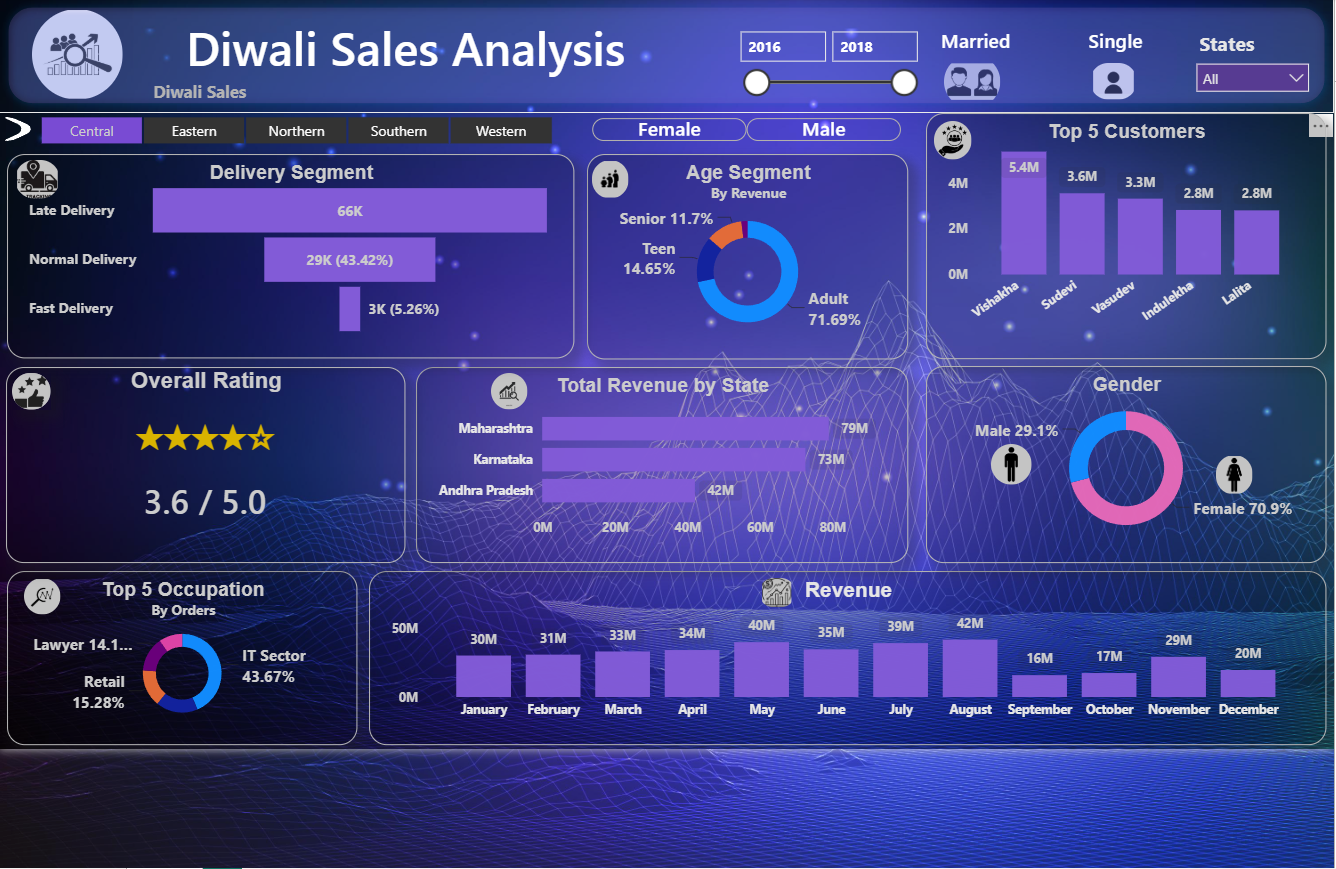

The dashboard page shown, as its layout file describes it:
{"tool":"powerbi","page":{"name":"Page 1","canvas":[1280,720],"ordinal":0},"visuals":[{"type":"image","box":[568.6,155.3,35.5,37.4],"z":0},{"type":"image","box":[471.7,359.6,35.5,34.5],"z":1000},{"type":"shape","box":[2.9,114.1,34.5,23],"z":2000},{"type":"image","box":[1166.9,438.2,35.5,38.4],"z":3000},{"type":"image","box":[951.1,427.6,39.3,39.3],"z":4000},{"type":"image","box":[1046.1,62.3,45.1,35.5],"z":5000},{"type":"image","box":[906.1,54.7,53.7,50.8],"z":6000},{"type":"image","box":[728.7,556.1,34.5,27.8],"z":7000},{"type":"image","box":[24,556.1,34.5,35.5],"z":8000},{"type":"image","box":[12.5,359.6,37.4,34.5],"z":9000},{"type":"image","box":[15.3,155.3,43.1,37.4],"z":10000},{"type":"image","box":[896.5,117.9,36.4,37.4],"z":11000},{"type":"image","box":[31.6,10.5,87.3,87.3],"z":12000},{"type":"shape","box":[896,20,242,81],"z":13000},{"type":"shape","box":[0,0,1280,110],"z":14000},{"type":"textbox","box":[143,73.9,110.9,33.1],"z":15000},{"type":"clusteredColumnChart","title":"Top 5 Customers","fields":{"Category":["Diwali Sales Data.Cust_name"],"Y":["measure.Total Revenue"]},"box":[888.8,110.3,383.5,235.9],"z":16000},{"type":"donutChart","title":"Top 5 Occupation","fields":{"Category":["Diwali Sales Data.Occupation"],"Y":["Sum(Diwali Sales Data.Orders)"]},"box":[8,549,336,167],"z":17000},{"type":"slicer","fields":{"Values":["Diwali Sales Data.Purchase Year"]},"box":[698,22,191,79],"z":18000},{"type":"cardVisual","fields":{"Rows":["Diwali Sales Data.Martial_status"]},"box":[871.6,2.9,265.6,103.6],"z":19000},{"type":"pieChart","title":"Age Segment","fields":{"Category":["Diwali Sales Data.Age Segment"],"Y":["measure.Total Revenue"]},"box":[563.8,149.6,307.8,196.6],"z":20000},{"type":"columnChart","title":"Revenue ","fields":{"Category":["Diwali Sales Data.Purchase Month"],"Y":["measure.Total Revenue"]},"box":[354.8,549.4,917.6,166.8],"z":21000},{"type":"donutChart","title":"Gender","fields":{"Category":["Diwali Sales Data.Gender"],"Y":["Sum(Diwali Sales Data.Orders)"]},"box":[888.8,352.8,383.5,188.9],"z":22000},{"type":"slicer","fields":{"Values":["Diwali Sales Data.Zone"]},"box":[0,106.4,568.6,48.9],"z":23000},{"type":"clusteredBarChart","fields":{"Category":["Diwali Sales Data.State"],"Y":["measure.Total Revenue"]},"box":[399.8,353.8,471.7,187.9],"z":24000},{"type":"slicer","fields":{"Values":["Diwali Sales Data.State"]},"box":[1138.1,25.9,128.5,74.8],"z":25000},{"type":"funnel","title":"Delivery Segment","fields":{"Category":["Diwali Sales Data.Delivery Segment"],"Y":["Sum(Diwali Sales Data.Orders)"]},"box":[7.7,149.6,543.6,195.6],"z":26000},{"type":"cardVisual","title":"Overall Rating","fields":{"Data":["measure.Stars","measure.Rating Score"]},"box":[6.7,353.8,382.6,187.9],"z":27000},{"type":"cardVisual","fields":{"Rows":["Diwali Sales Data.Gender"]},"box":[563.8,90.1,307.8,72.9],"z":28000}]}

Visuals, with their boxes in screenshot pixels (x1, y1, x2, y2):
image: select_region(606, 163, 643, 202)
image: select_region(506, 374, 543, 409)
shape: select_region(24, 121, 59, 145)
image: select_region(1222, 455, 1259, 494)
image: select_region(1000, 444, 1040, 484)
image: select_region(1098, 68, 1144, 104)
image: select_region(954, 60, 1009, 112)
image: select_region(771, 576, 806, 604)
image: select_region(46, 576, 81, 612)
image: select_region(34, 374, 72, 409)
image: select_region(37, 163, 81, 202)
image: select_region(944, 125, 981, 163)
image: select_region(53, 14, 143, 104)
shape: select_region(943, 24, 1192, 107)
shape: select_region(21, 3, 1335, 117)
textbox: select_region(168, 80, 282, 114)
"Top 5 Customers" clusteredColumnChart: select_region(936, 117, 1330, 360)
"Top 5 Occupation" donutChart: select_region(29, 569, 375, 740)
slicer - Diwali Sales Data.Purchase Year: select_region(739, 26, 936, 107)
cardVisual - Diwali Sales Data.Martial_status: select_region(918, 6, 1191, 113)
"Age Segment" pieChart: select_region(601, 157, 918, 360)
"Revenue " columnChart: select_region(386, 569, 1331, 741)
"Gender" donutChart: select_region(936, 367, 1330, 561)
slicer - Diwali Sales Data.Zone: select_region(21, 113, 606, 163)
clusteredBarChart - Diwali Sales Data.State x measure.Total Revenue: select_region(432, 368, 918, 561)
slicer - Diwali Sales Data.State: select_region(1192, 30, 1325, 107)
"Delivery Segment" funnel: select_region(29, 157, 588, 359)
"Overall Rating" cardVisual: select_region(28, 368, 422, 561)
cardVisual - Diwali Sales Data.Gender: select_region(601, 96, 918, 171)
